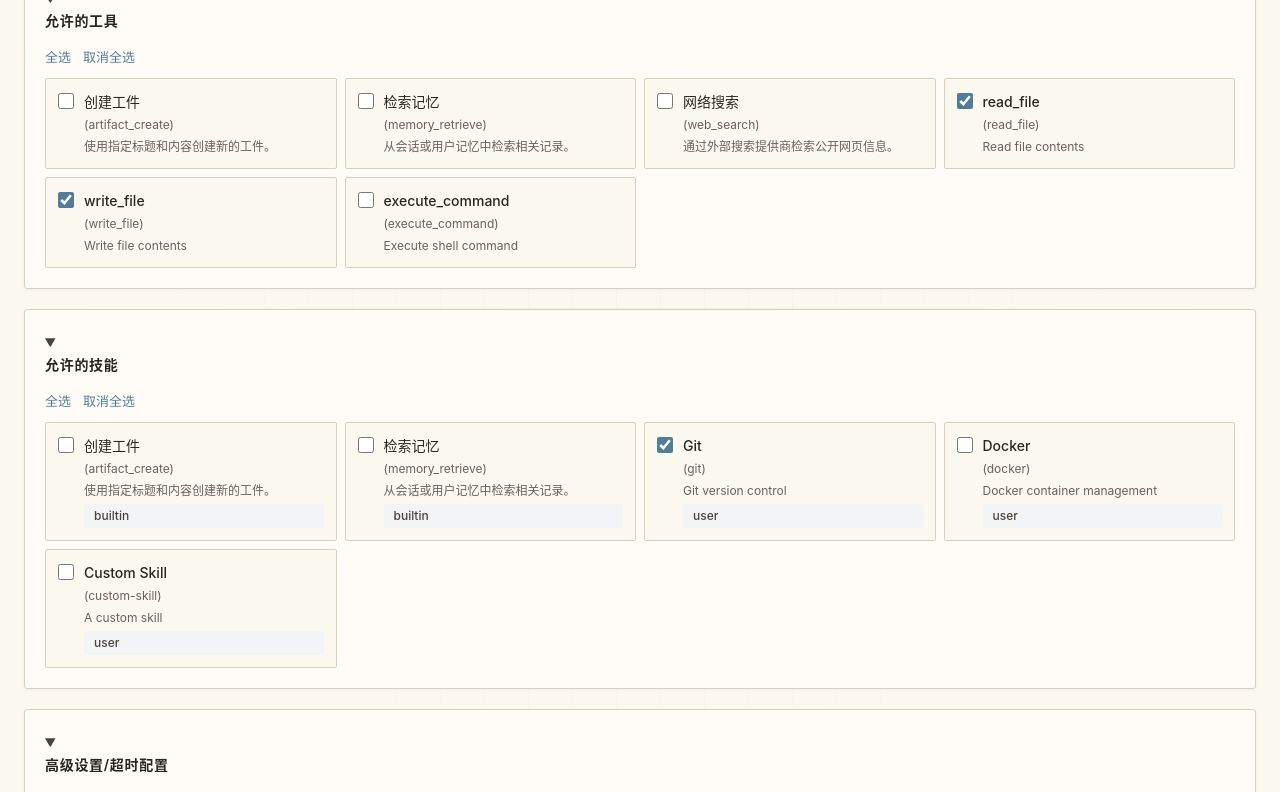
Test case: AgentsTab › Form Interactions › should select all skills when select all clicked
(page scrolled)
Click the button with test id "select-all-skills-btn".
click(58, 400)  # box [45,390,71,410]
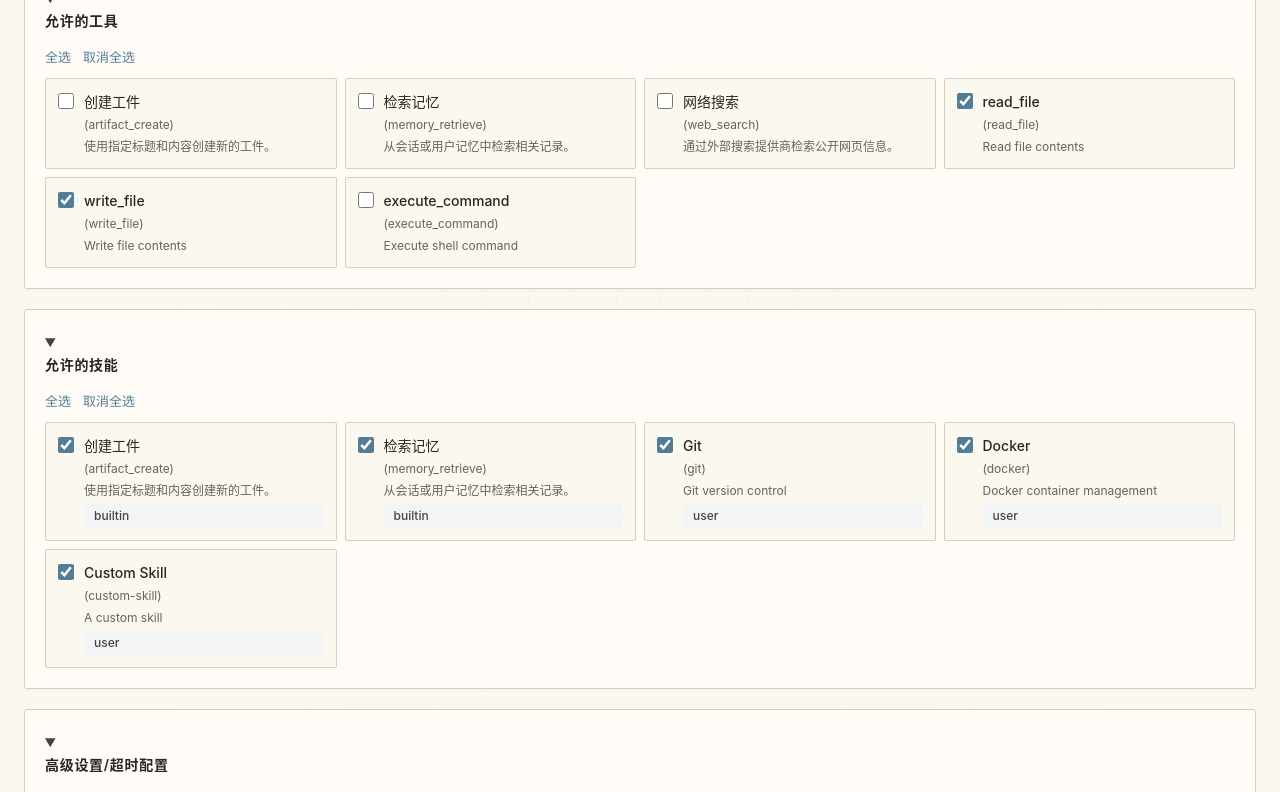
expect the checkbox with test id "skill-checkbox-git" is checked: met, box [657,436,673,452]
expect the checkbox with test id "skill-checkbox-docker" is checked: met, box [956,436,972,452]
expect the checkbox with test id "skill-checkbox-custom-skill" is checked: met, box [58,564,74,580]
